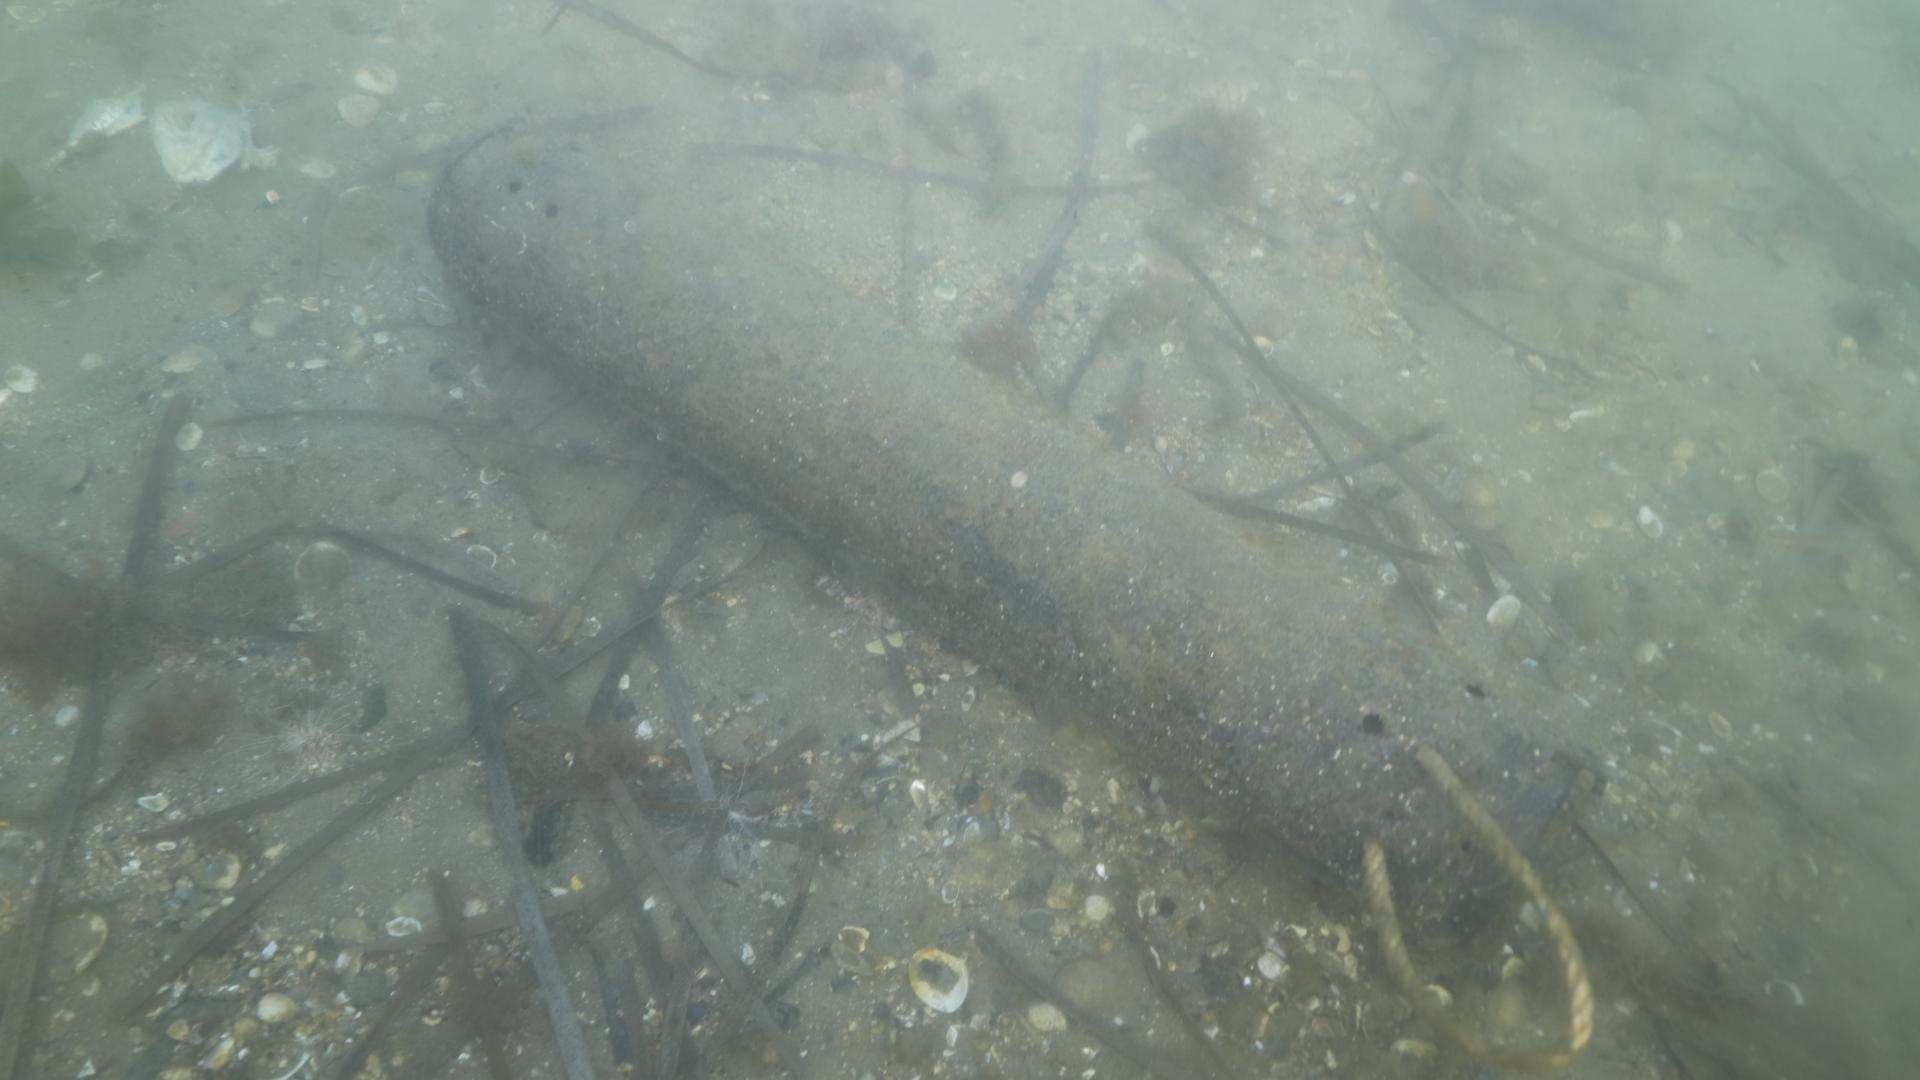eel fish trap: (430, 124, 1600, 945)
rope: (1361, 738, 1596, 1069)
